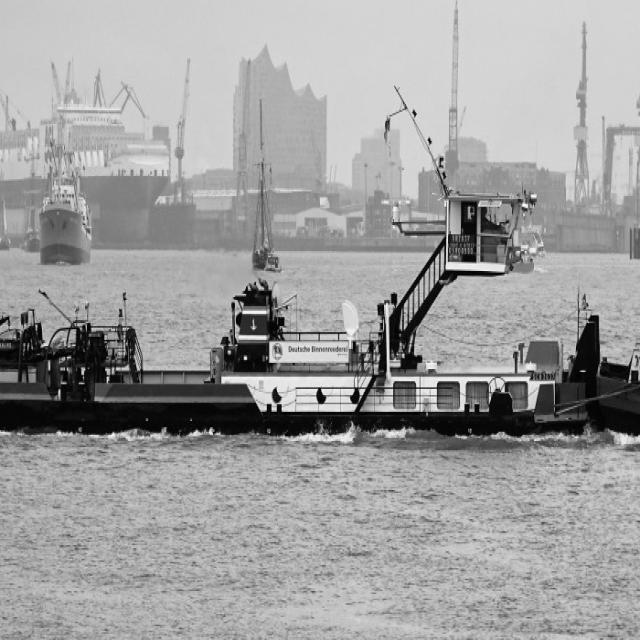tugboat: (1, 84, 604, 456)
